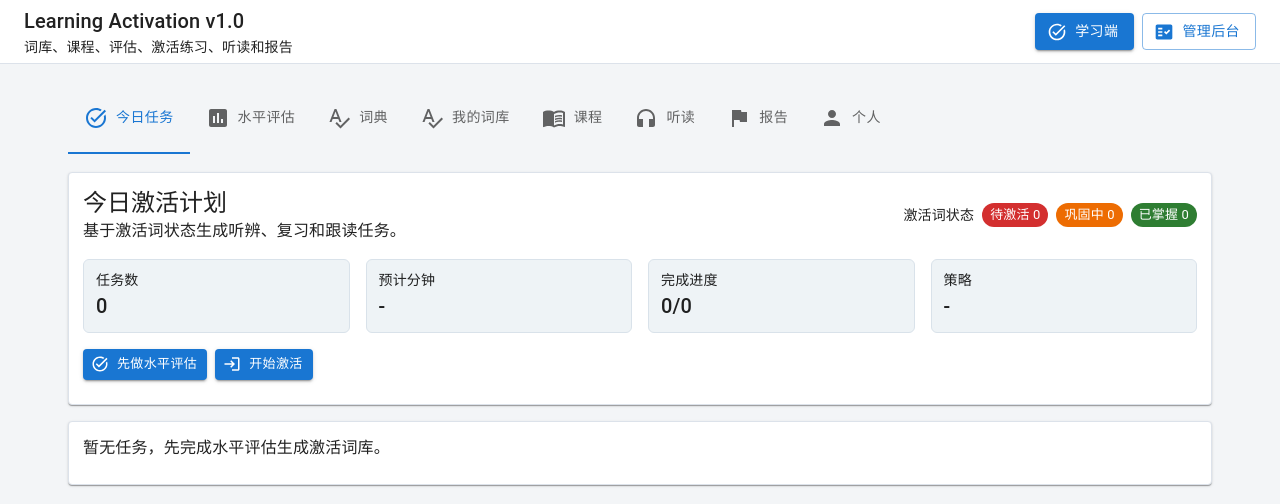
Test case: App v1.0 shell › keeps locked courses disabled in the learning course list
Click the tab "课程". click: (572, 118)
box: [526,82,618,154]
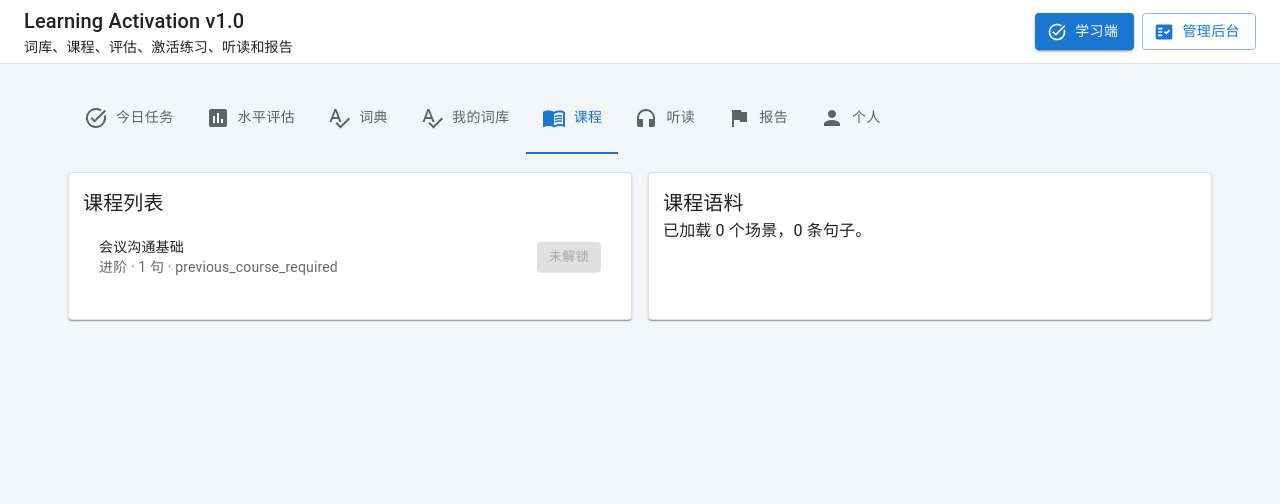
Result: the button "未解锁" is disabled at [537,242,601,272]
Result: the text "进阶 · 1 句 · previous_course_required" is shown at [99,259,338,275]
